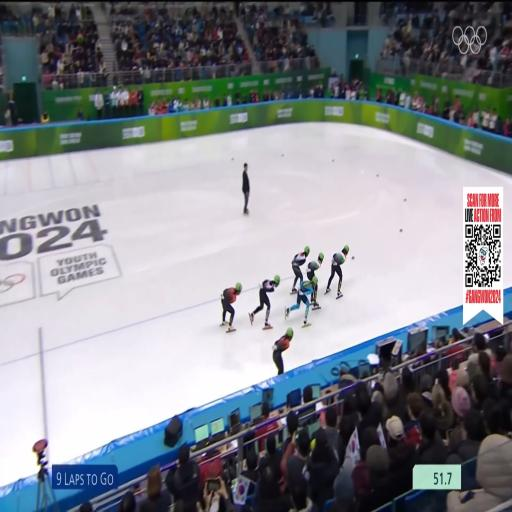Skater: (249, 275, 280, 329), (285, 276, 317, 327), (326, 245, 349, 298), (221, 283, 242, 332), (273, 328, 293, 374), (291, 246, 309, 294), (307, 253, 323, 281)
